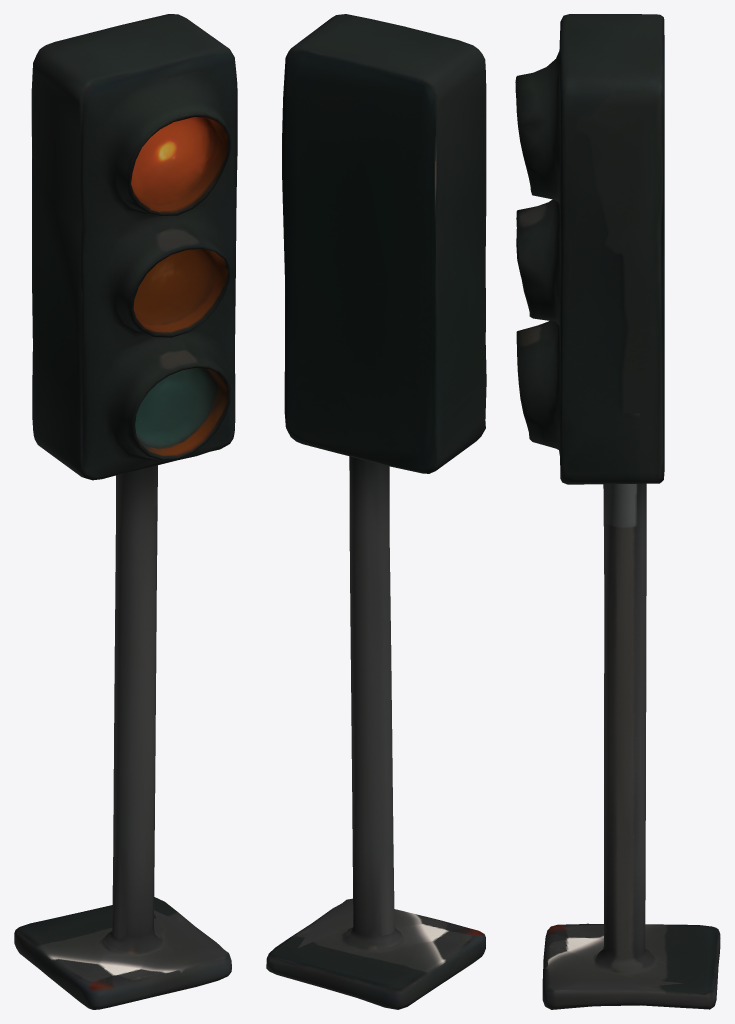
Rendered from Traffic_Lamp.fbx.
The picture shows the model from 3 angles, left to right: view 1: azimuth 30°, elevation 25°; view 2: azimuth 150°, elevation 25°; view 3: azimuth 270°, elevation 25°; orthographic projection. The views are drawn at different scales.
Visible parts, largest first — view 1: model.004; view 2: model.004; view 3: model.004.
Boxes of the visible parts, box(x1,y1,x2,y2) form: model.004: box(14, 14, 237, 1009); model.004: box(266, 14, 486, 1009); model.004: box(515, 14, 720, 1009).
Bounding box in the file's own units: 30.69 × 171 × 33.89.
